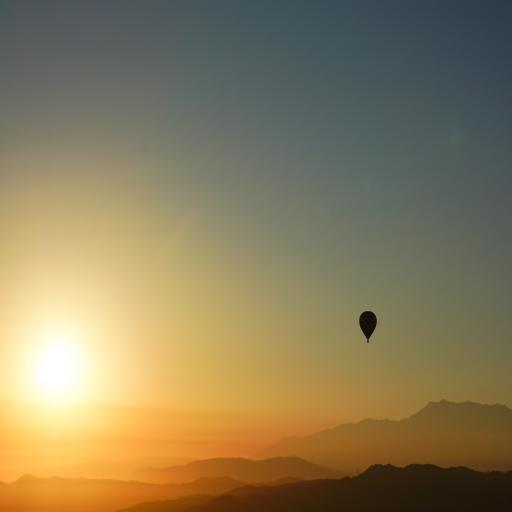hot air ballon: (358, 304, 379, 350)
